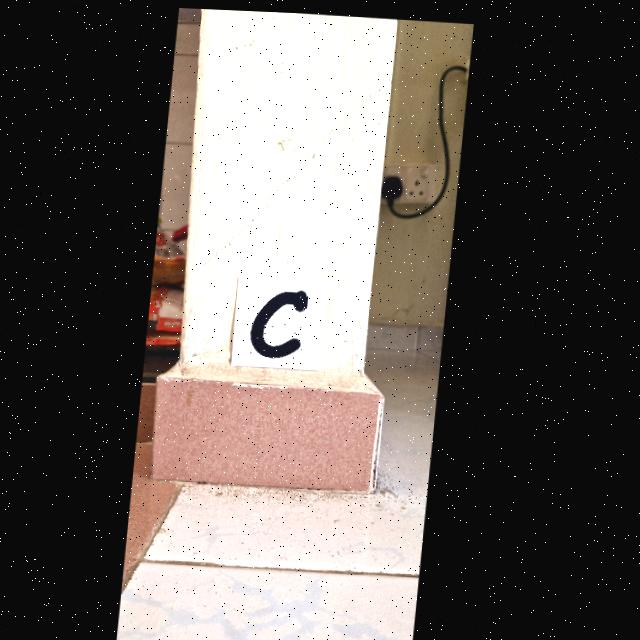C: (256, 288, 312, 355)
